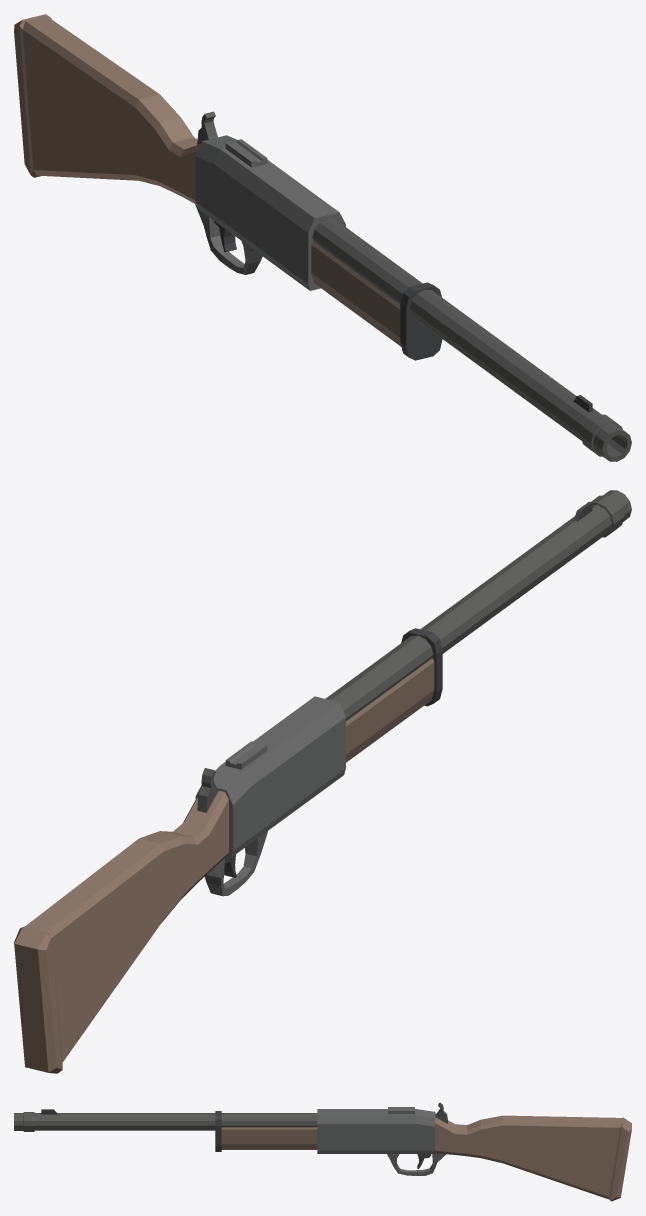
File: shotgun_4.glb
3 views of the same model, one above another, from view 1: azimuth 30°, elevation 25°; view 2: azimuth 150°, elevation 25°; view 3: azimuth 270°, elevation 25° (orthographic). The views are drawn at different scales.
Visible parts, largest first — view 1: shotgun_4; view 2: shotgun_4; view 3: shotgun_4.
Part boxes in pixels (box(x1,y1,x2,y2)): shotgun_4: box(14, 14, 631, 461); shotgun_4: box(14, 490, 631, 1073); shotgun_4: box(14, 1102, 631, 1201).
Size of the model in its own units: 0.0362 by 0.1682 by 0.989.
